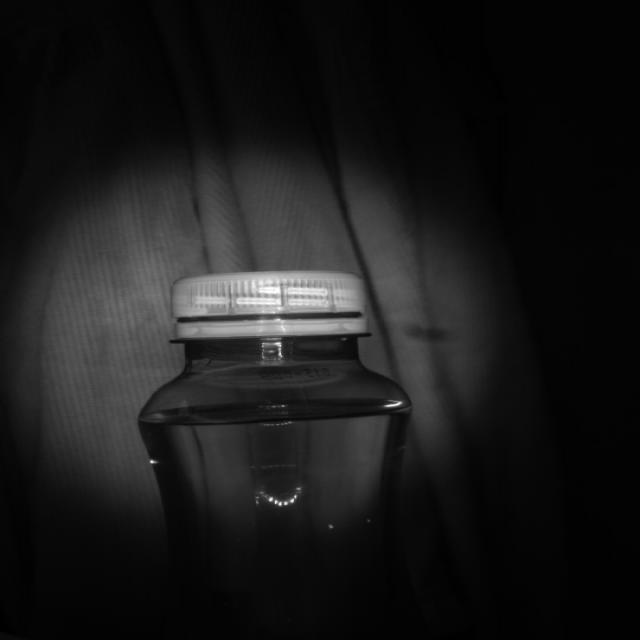Not Good: (175, 263, 369, 336)
